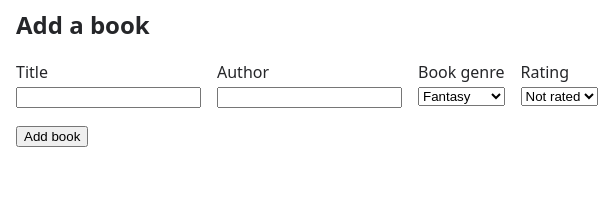
Test: AddBookForm › shows the error in an alert and keeps the input
Type "Emma" into the field labelled "Title" at x=108, y=97, box [16, 87, 201, 108]
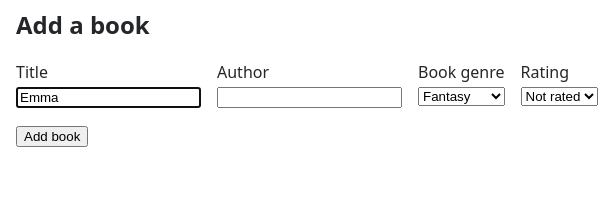
Click the button "Add book" at x=52, y=136, box [16, 126, 88, 147]
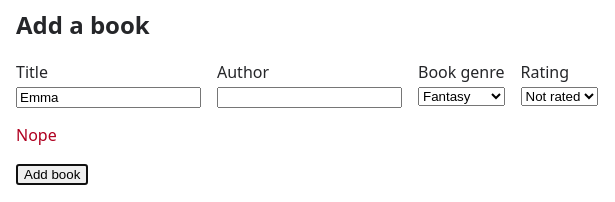
Now the message reads "Nope", box [16, 124, 57, 146]
